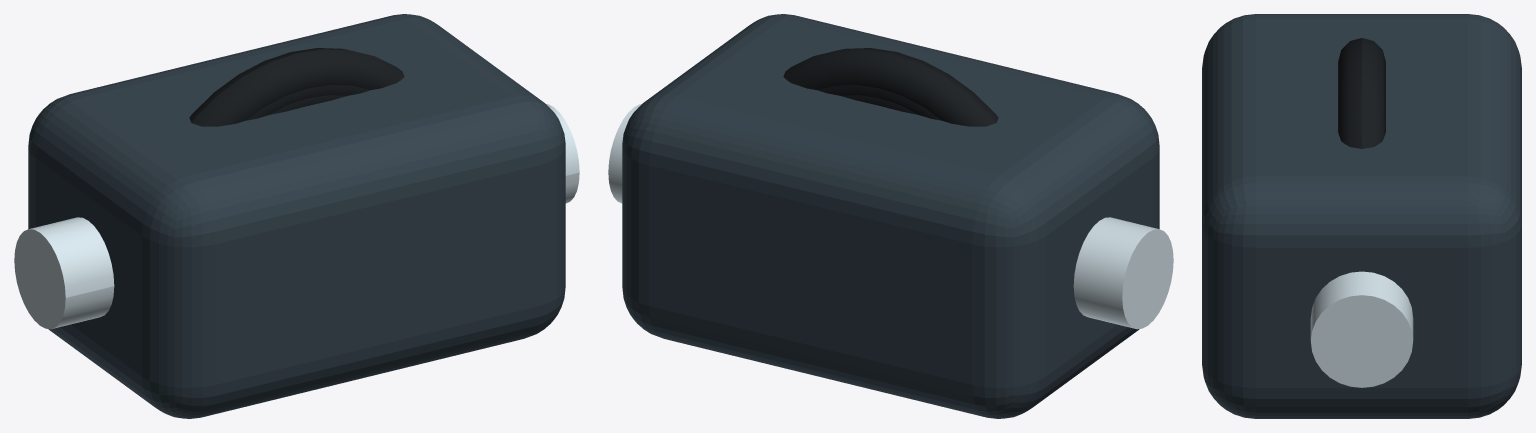
Rendered from g4ed_ignition.glb.
3 views of the same model, side by side, from view 1: azimuth 30°, elevation 25°; view 2: azimuth 150°, elevation 25°; view 3: azimuth 270°, elevation 25° (orthographic).
Parts seen in each view (by area): view 1: asset_mesh__g4ed_244__reference_body, asset_mesh__g4ed_244__reference_axis, asset_mesh__g4ed_243__reference_seal, asset_mesh__g4ed_242__reference_seal; view 2: asset_mesh__g4ed_244__reference_body, asset_mesh__g4ed_244__reference_axis, asset_mesh__g4ed_243__reference_seal, asset_mesh__g4ed_242__reference_seal; view 3: asset_mesh__g4ed_244__reference_body, asset_mesh__g4ed_244__reference_axis, asset_mesh__g4ed_243__reference_seal.
Part boxes in pixels (x1,y1,x2,y2): asset_mesh__g4ed_244__reference_body: [28, 14, 565, 418]; asset_mesh__g4ed_244__reference_axis: [14, 104, 579, 329]; asset_mesh__g4ed_243__reference_seal: [189, 48, 404, 126]; asset_mesh__g4ed_242__reference_seal: [246, 85, 370, 120]; asset_mesh__g4ed_244__reference_body: [622, 14, 1159, 418]; asset_mesh__g4ed_244__reference_axis: [608, 104, 1173, 329]; asset_mesh__g4ed_243__reference_seal: [783, 48, 998, 126]; asset_mesh__g4ed_242__reference_seal: [817, 85, 941, 120]; asset_mesh__g4ed_244__reference_body: [1202, 14, 1521, 418]; asset_mesh__g4ed_244__reference_axis: [1310, 271, 1413, 387]; asset_mesh__g4ed_243__reference_seal: [1338, 38, 1385, 148].
Size of the model in its own units: 1.98 by 1.2 by 1.07.
